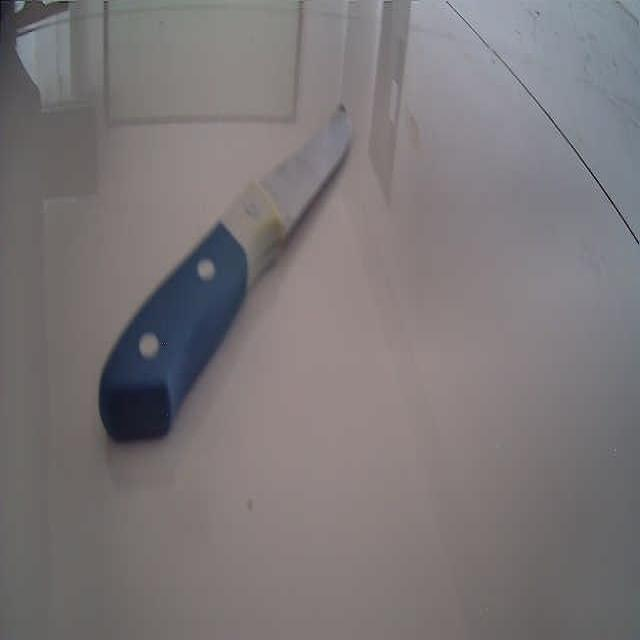knife: (97, 100, 355, 443)
